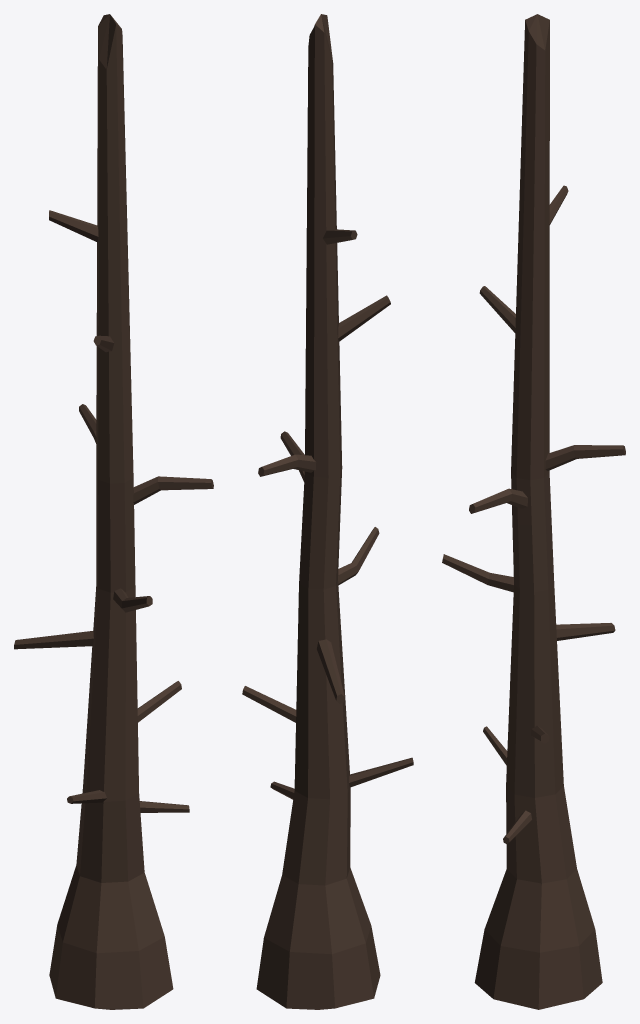
Rendered from SM_Tree_Pine_Dead_01.glb.
The picture shows the model from 3 angles, left to right: view 1: azimuth 30°, elevation 25°; view 2: azimuth 150°, elevation 25°; view 3: azimuth 270°, elevation 25°; orthographic projection.
Visible parts, largest first — view 1: SM_Tree_Pine_Dead_01; view 2: SM_Tree_Pine_Dead_01; view 3: SM_Tree_Pine_Dead_01.
Boxes of the visible parts, <box> form: SM_Tree_Pine_Dead_01: <box>14,14,213,1009</box>; SM_Tree_Pine_Dead_01: <box>242,14,413,1009</box>; SM_Tree_Pine_Dead_01: <box>442,14,625,1009</box>.
Bounding box in the file's own units: 1 × 6.73 × 1.13.
Materials: 1 (1 with a texture image).
